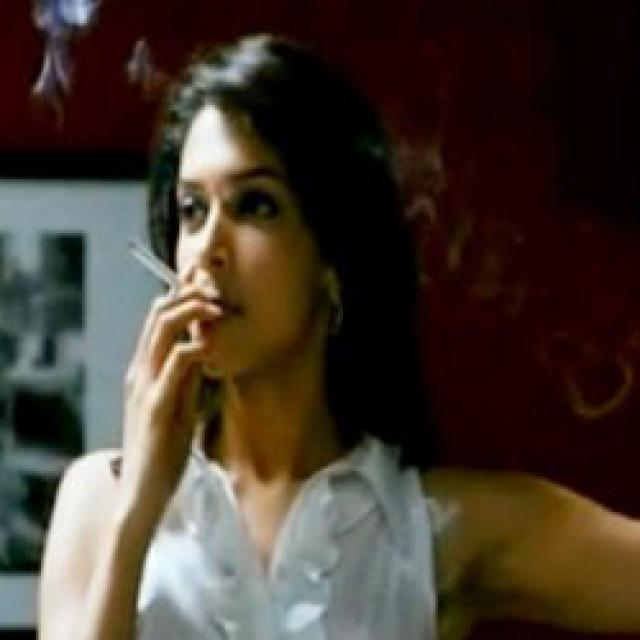Smooking: (124, 218, 180, 304)
